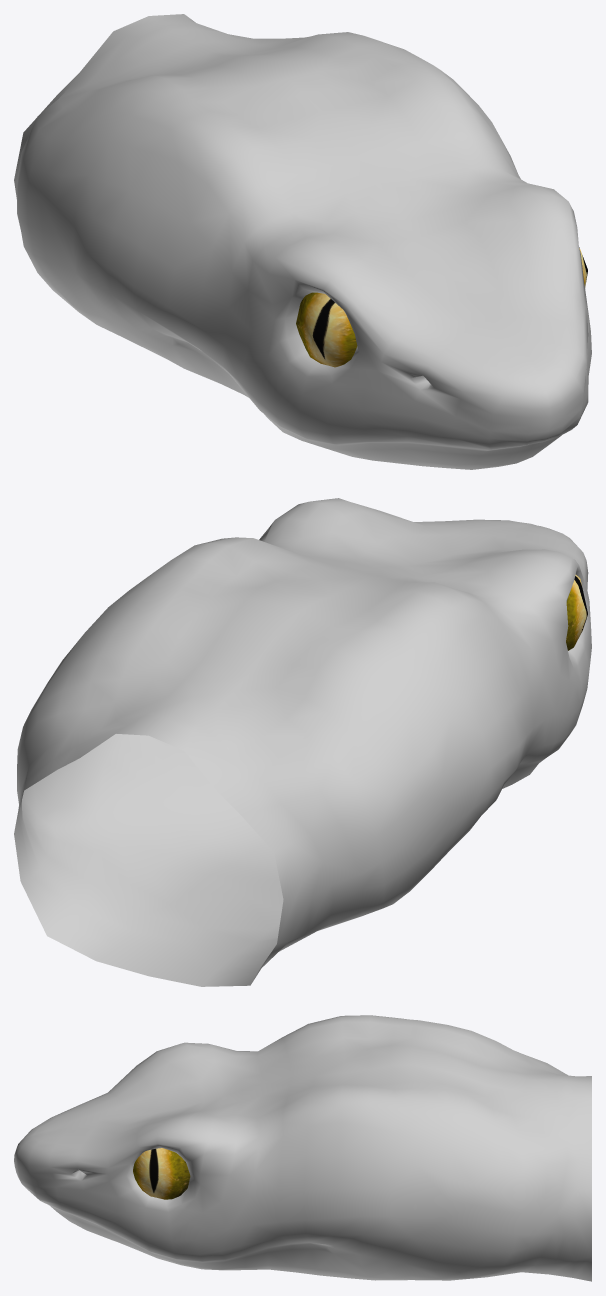
Rendered from snake_head.fbx.
The picture shows the model from 3 angles, top to bottom: view 1: azimuth 30°, elevation 25°; view 2: azimuth 150°, elevation 25°; view 3: azimuth 270°, elevation 25°; orthographic projection. The views are drawn at different scales.
Visible parts, largest first — view 1: snake_head, Icosphere; view 2: snake_head, Icosphere; view 3: snake_head, Icosphere.
Part boxes in pixels (<box>): snake_head: <box>14,14,591,469</box>; Icosphere: <box>296,247,587,367</box>; snake_head: <box>14,498,591,986</box>; Icosphere: <box>566,574,587,650</box>; snake_head: <box>14,1015,591,1281</box>; Icosphere: <box>133,1148,190,1199</box>.
Size of the model in its own units: 58.26 by 39.34 by 100.
